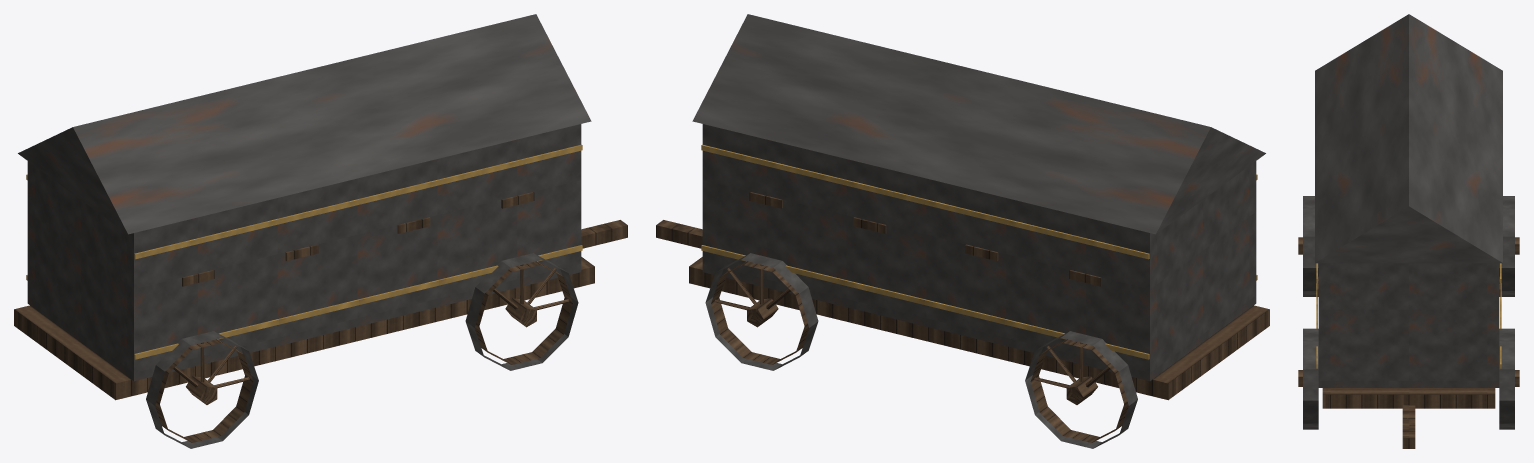
The model's file is Wagon_Armored_1_LOD1.gltf.
The picture shows the model from 3 angles, left to right: view 1: azimuth 30°, elevation 25°; view 2: azimuth 150°, elevation 25°; view 3: azimuth 270°, elevation 25°; orthographic projection. The views are drawn at different scales.
Visible parts, largest first — view 1: Wagon_Armored_1_LOD1; view 2: Wagon_Armored_1_LOD1; view 3: Wagon_Armored_1_LOD1.
Part boxes in pixels (x1=…): Wagon_Armored_1_LOD1: x1=14, y1=14, x2=627, y2=448; Wagon_Armored_1_LOD1: x1=656, y1=14, x2=1269, y2=448; Wagon_Armored_1_LOD1: x1=1298, y1=14, x2=1519, y2=448.
Size of the model in its own units: 7 by 3.47 by 2.82.
3 materials, 3 textured.
